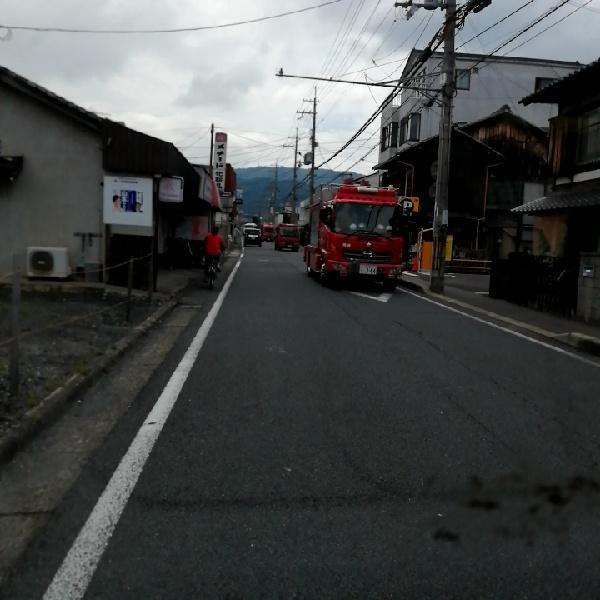D00: (419, 355, 596, 457), (447, 393, 520, 453), (388, 313, 447, 357)
